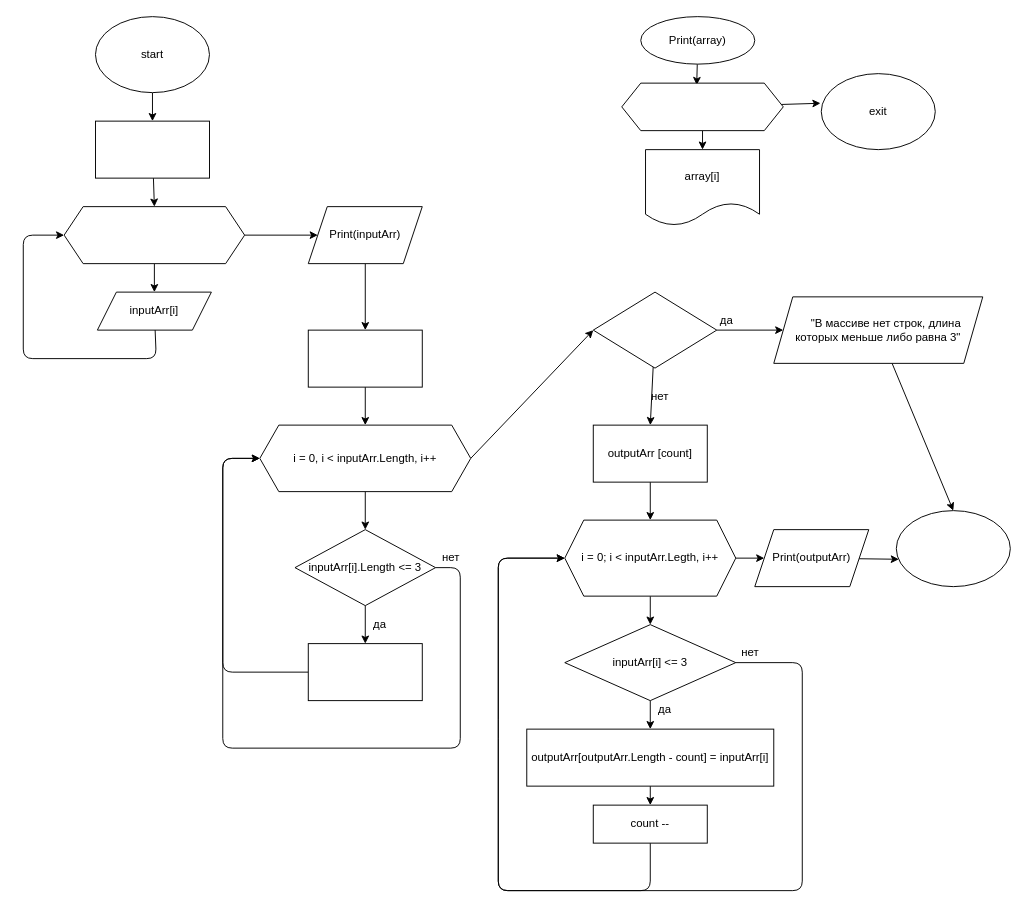
This 1027x915 diagram has some shape labels left out. The box of each missing label's shape, as (x1, y1, x2, y2) in pixels:
count ++: (307, 643, 422, 701)
count = 0: (307, 329, 422, 387)
count==0: (592, 291, 717, 368)
i = 0; i < array.Length; i++: (621, 82, 783, 131)
i = 0; i < inputArr.Length; i++: (63, 206, 245, 264)
inputArr [10]: (95, 120, 209, 178)
конец: (895, 510, 1010, 587)
